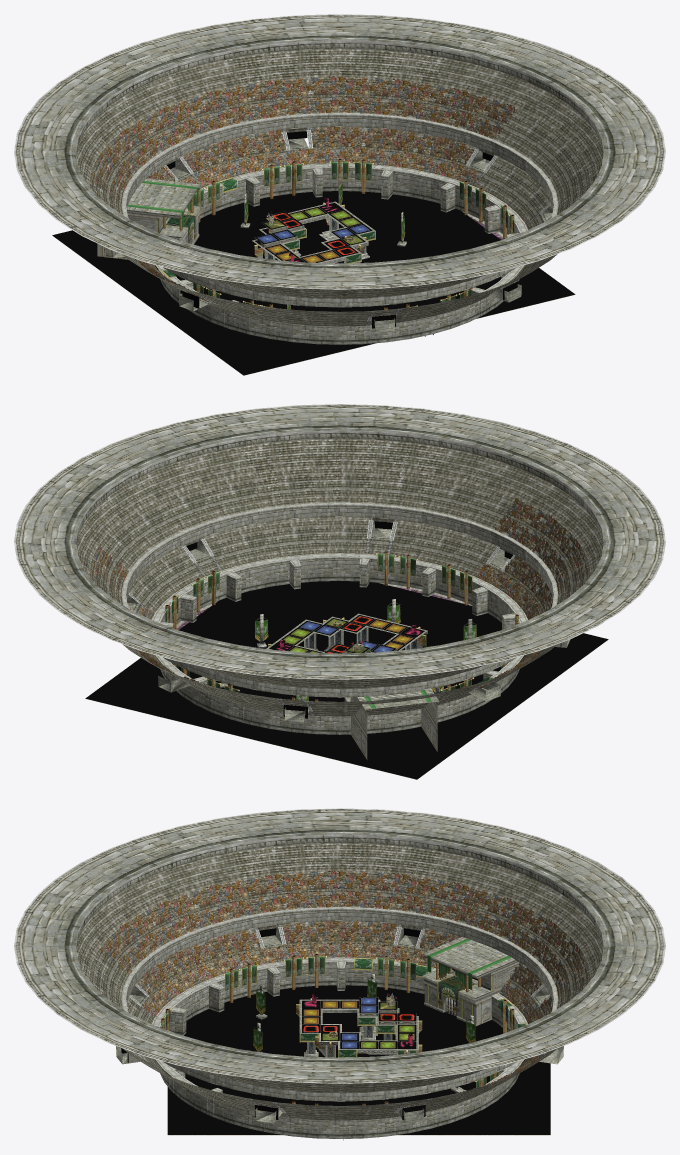
Rendered from Colosseum.fbx.
3 renders of one model, top to bottom at view 1: azimuth 30°, elevation 25°; view 2: azimuth 150°, elevation 25°; view 3: azimuth 270°, elevation 25°, orthographic.
Parts seen in each view (by area): view 1: Colosseum Walls 4, Stage, Shadows, Crowd 1, Colosseum Walls 1, Colosseum Walls 2, Crowd 2, Auditorium Floor 1, Banners 2, Colosseum Walls 3, Stage Entry, Colosseum Wall Top 1 (+7 smaller); view 2: Stage, Colosseum Walls 4, Shadows, Colosseum Walls 1, Colosseum Walls 2, Crowd 1, Crowd 2, Colosseum Walls 3, Colosseum Wall Top 1, Stage Entry, Colosseum Wall Top 3, Banners 2 (+7 smaller); view 3: Colosseum Walls 4, Stage, Shadows, Crowd 1, Colosseum Walls 1, Crowd 2, Colosseum Walls 2, Crowd 3, Auditorium Floor 1, Stage Entry, Banners 2, Colosseum Wall Top 1 (+13 smaller).
Boxes of the visible parts, box(x1,y1,x2,y2) form: Colosseum Walls 4: box(14, 14, 665, 289); Stage: box(76, 49, 603, 326); Shadows: box(52, 191, 575, 375); Crowd 1: box(92, 76, 515, 297); Colosseum Walls 1: box(158, 167, 519, 344); Colosseum Walls 2: box(126, 114, 553, 307); Crowd 2: box(102, 88, 507, 301); Auditorium Floor 1: box(121, 178, 200, 243); Banners 2: box(193, 162, 514, 316); Colosseum Walls 3: box(179, 169, 508, 336); Stage Entry: box(109, 138, 552, 331); Colosseum Wall Top 1: box(155, 163, 527, 297); Stage: box(76, 439, 603, 716); Colosseum Walls 4: box(14, 404, 665, 679); Shadows: box(85, 581, 608, 779); Colosseum Walls 1: box(160, 557, 521, 734); Colosseum Walls 2: box(126, 504, 553, 697); Crowd 1: box(92, 497, 587, 688); Crowd 2: box(102, 508, 577, 688); Colosseum Walls 3: box(162, 559, 520, 722); Colosseum Wall Top 1: box(152, 553, 527, 685); Stage Entry: box(127, 521, 570, 721); Colosseum Wall Top 3: box(121, 502, 558, 608); Banners 2: box(165, 553, 517, 706); Colosseum Walls 4: box(14, 808, 665, 1083); Stage: box(76, 843, 603, 1120); Shadows: box(167, 985, 550, 1134); Crowd 1: box(100, 870, 587, 1092); Colosseum Walls 1: box(160, 961, 521, 1138); Crowd 2: box(111, 882, 577, 1087); Colosseum Walls 2: box(126, 908, 553, 1101); Crowd 3: box(144, 933, 547, 1075); Auditorium Floor 1: box(422, 937, 514, 1012); Stage Entry: box(116, 928, 563, 1123); Banners 2: box(162, 956, 514, 1087); Colosseum Wall Top 1: box(152, 957, 527, 1086).
Size of the model in its own units: 118906 by 23668 by 118926.
